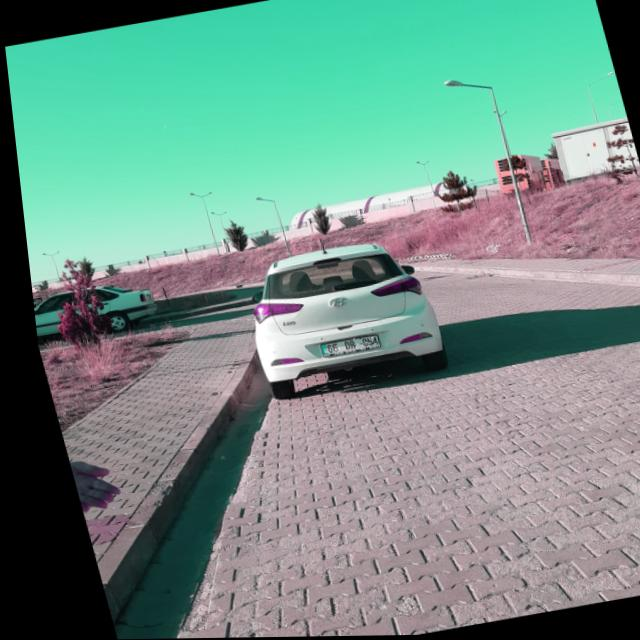license_plate: (310, 336, 373, 357)
